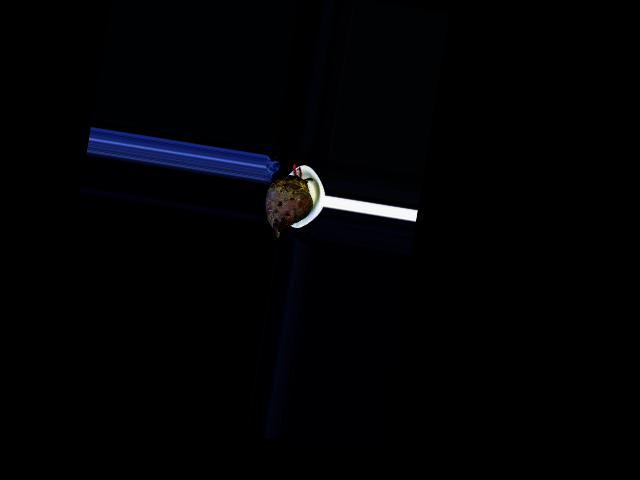beet: (261, 160, 318, 241)
